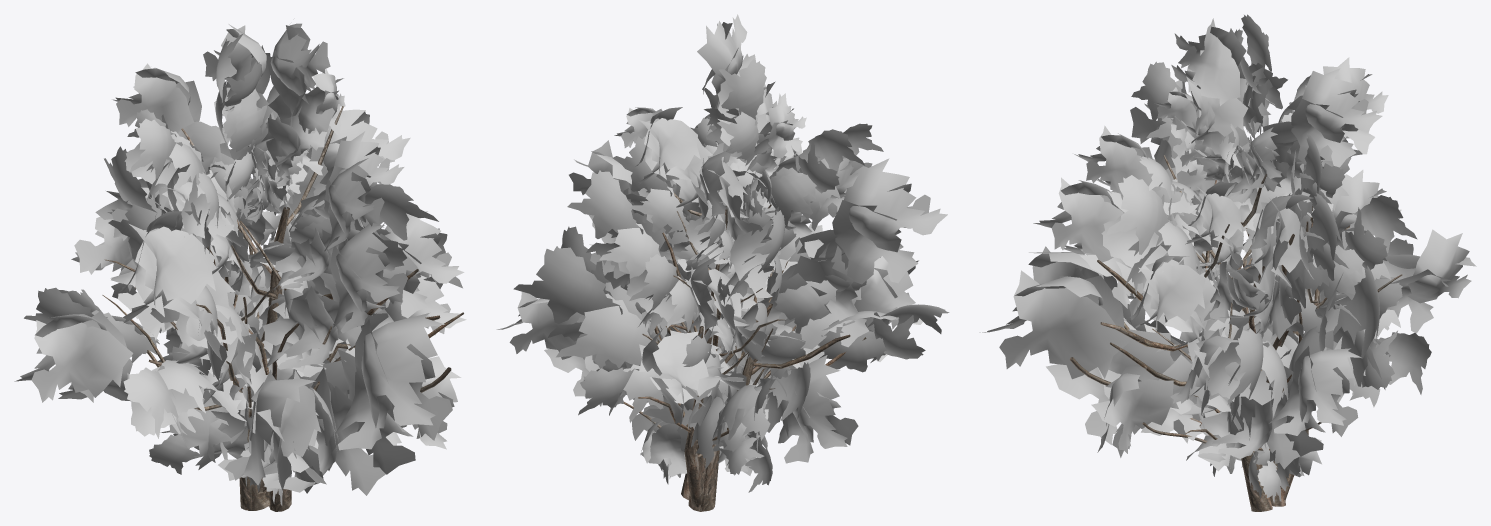
Rendered from Bush.fbx.
3 renders of one model, left to right at view 1: azimuth 30°, elevation 25°; view 2: azimuth 150°, elevation 25°; view 3: azimuth 270°, elevation 25°, orthographic. The views are drawn at different scales.
Visible parts, largest first — view 1: Trunk_bush1; view 2: Trunk_bush1; view 3: Trunk_bush1.
Part boxes in pixels (x1,y1,x2,y2): Trunk_bush1: (14,23,466,511); Trunk_bush1: (496,14,949,511); Trunk_bush1: (979,14,1476,511).
Size of the model in its own units: 515 by 639 by 594.
